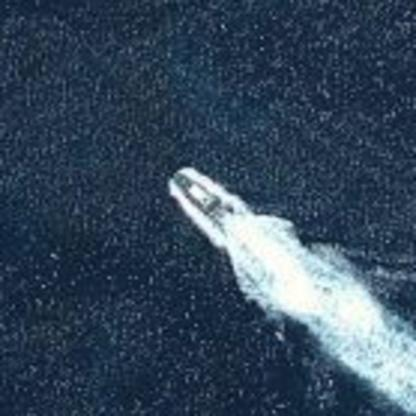ship: (155, 160, 260, 250)
